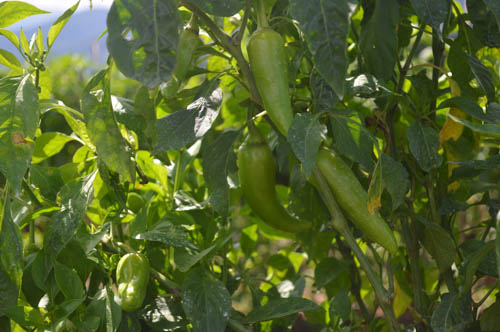ChiliPepper: (319, 150, 398, 251), (235, 145, 310, 234), (249, 33, 292, 136), (115, 255, 153, 311)
